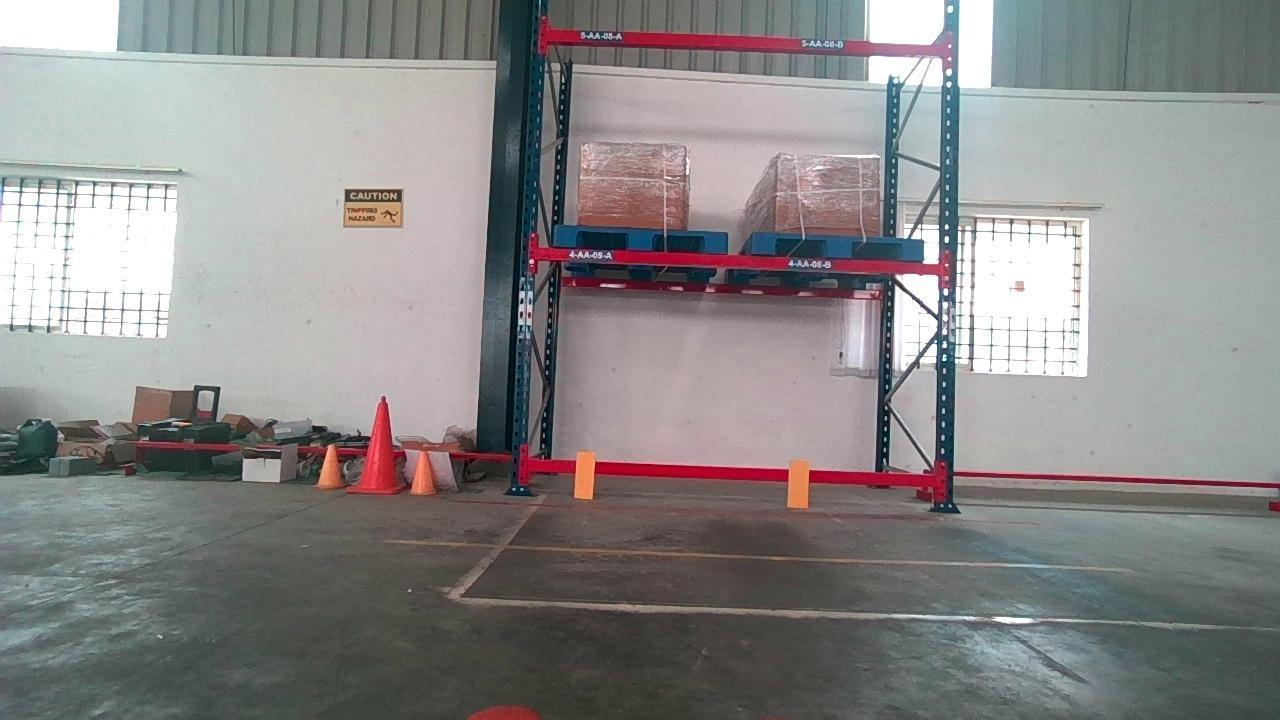h_rack: (550, 27, 946, 56), (514, 462, 936, 486), (538, 249, 948, 271)
orange_strip: (573, 450, 600, 496), (785, 460, 808, 507)
small_pallet: (747, 234, 926, 257), (551, 225, 722, 248)
yellow_line: (388, 539, 1129, 572)
